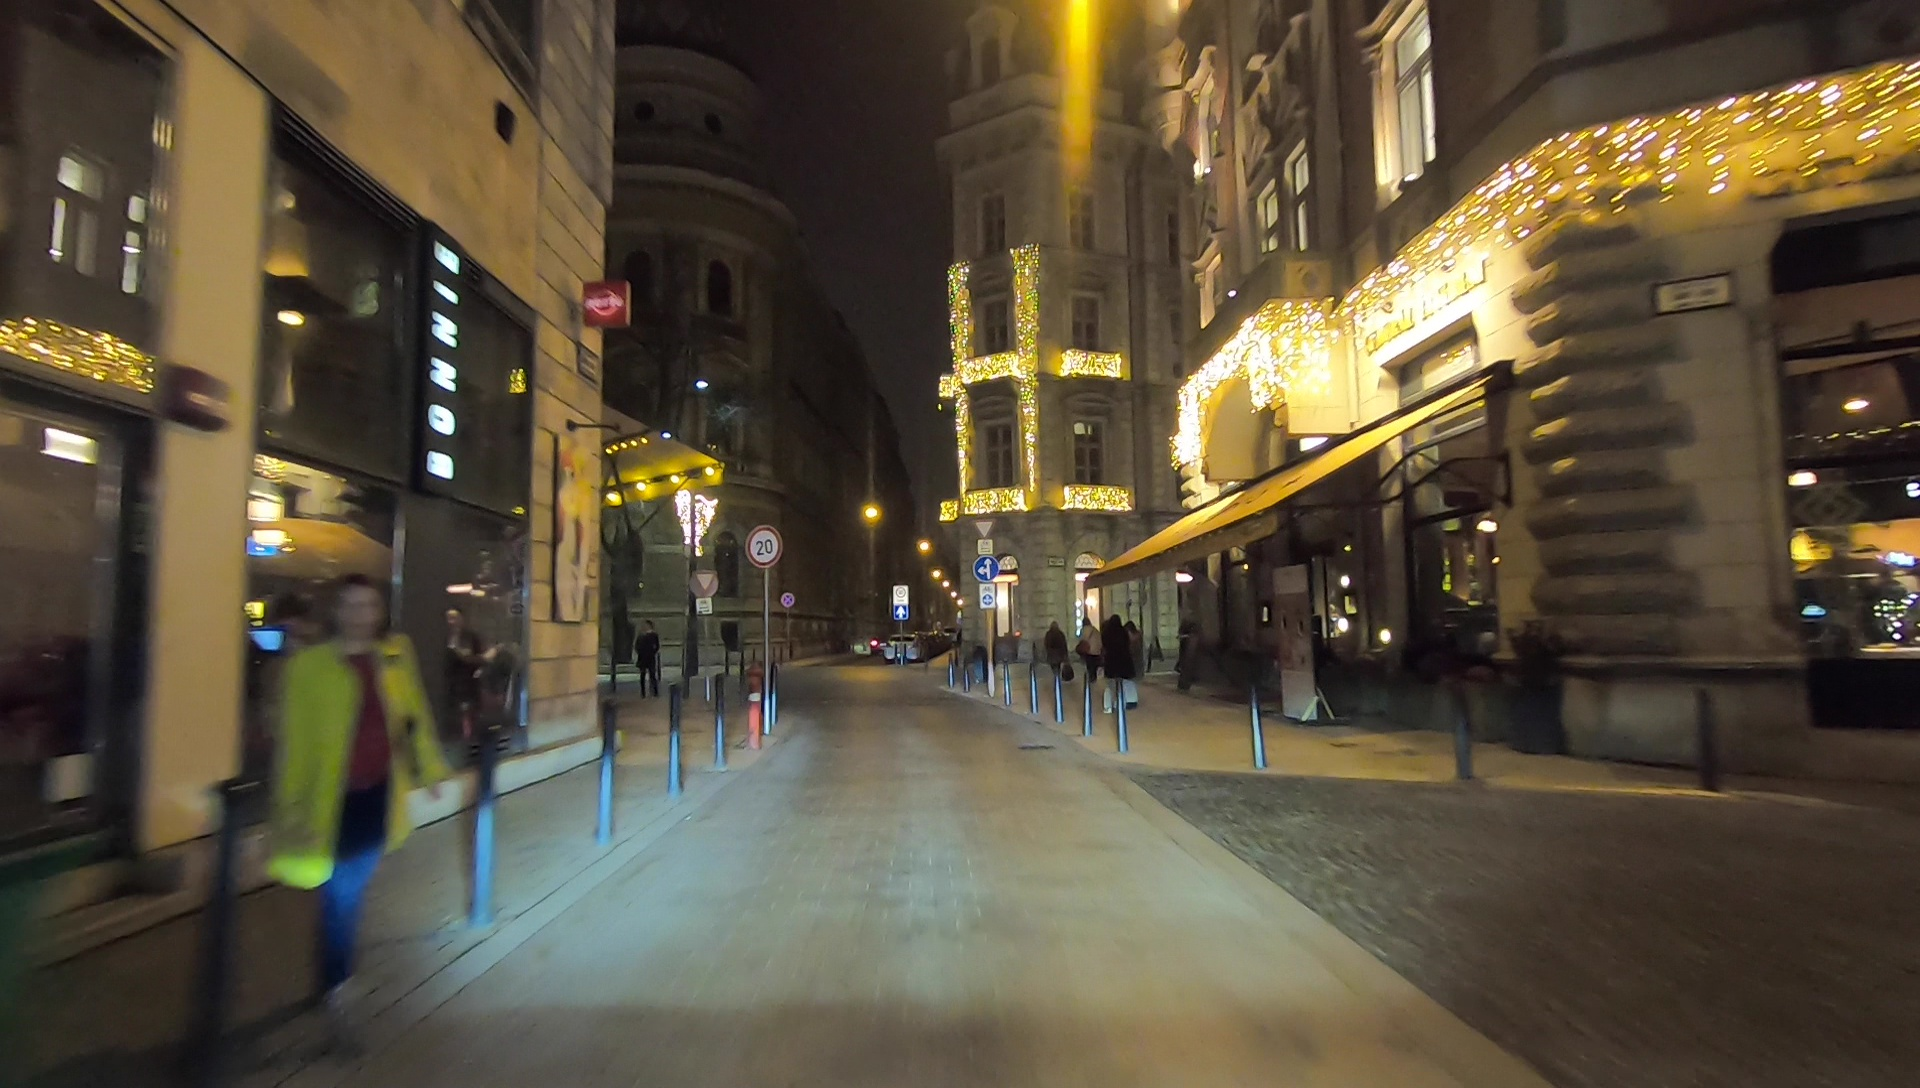person: (267, 574, 443, 1019), (1097, 611, 1128, 715), (634, 617, 662, 697), (1123, 617, 1145, 704), (1078, 613, 1101, 686), (1043, 619, 1069, 680)
